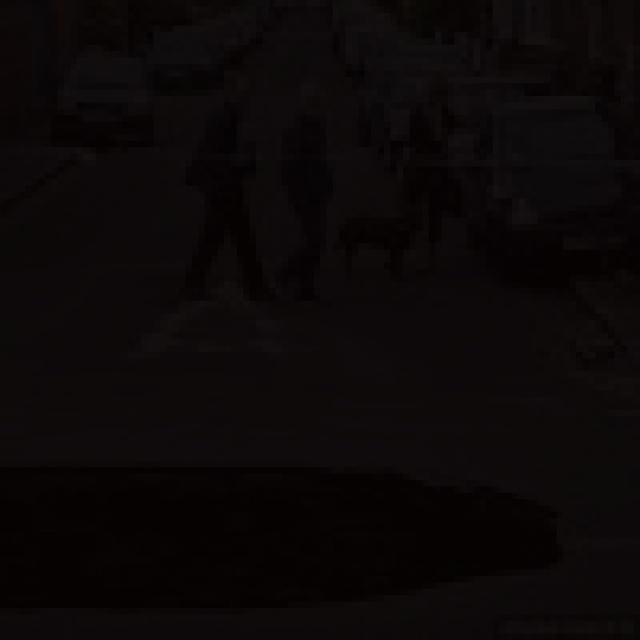Pothole: (0, 450, 566, 615)
